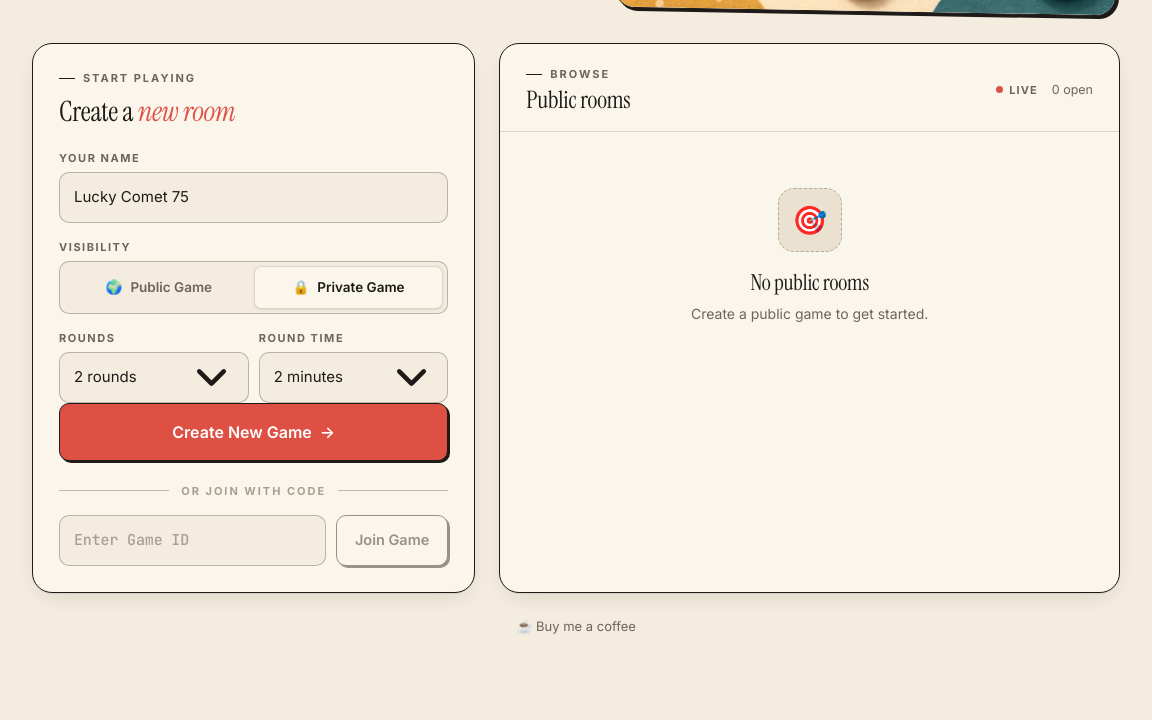
Test: App - starting without a name › holds Join Game back until a game id is typed
(page scrolled)
Expected: the button "Join Game" is disabled, x1=336 y1=515 x2=448 y2=566
In the field with placeholder "Enter Game ID": (192, 540) x1=59 y1=515 x2=326 y2=566, type "GAME123"
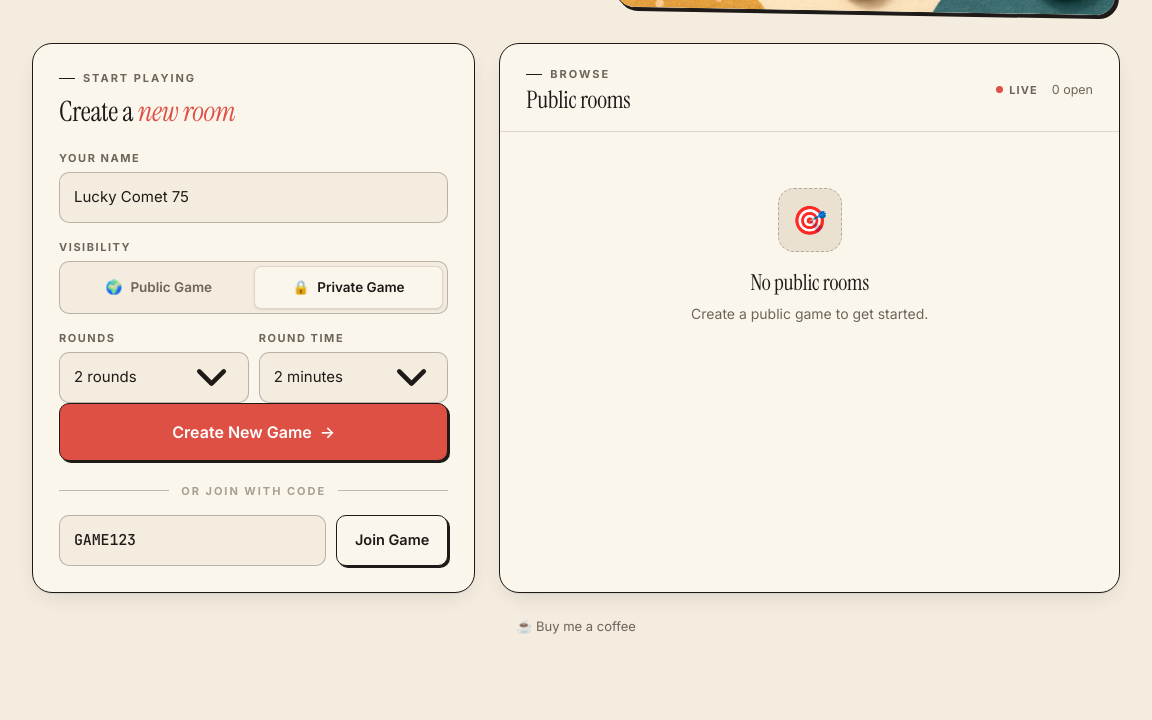
Now the button "Join Game" is enabled, box x1=336 y1=515 x2=448 y2=566
